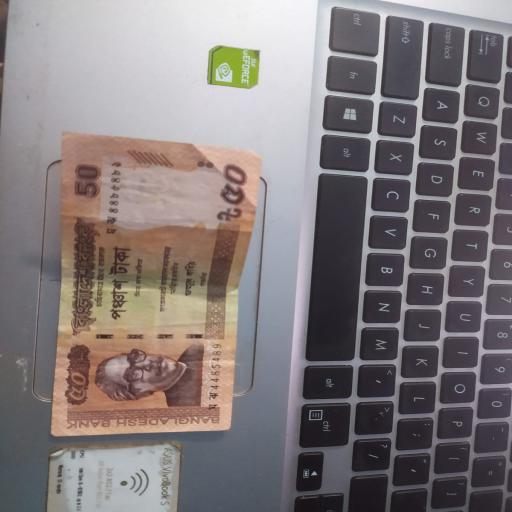50taka: (52, 133, 260, 436)
